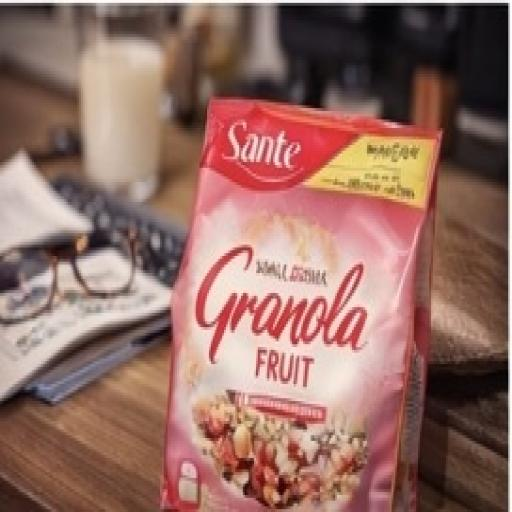granola: (137, 71, 448, 512)
